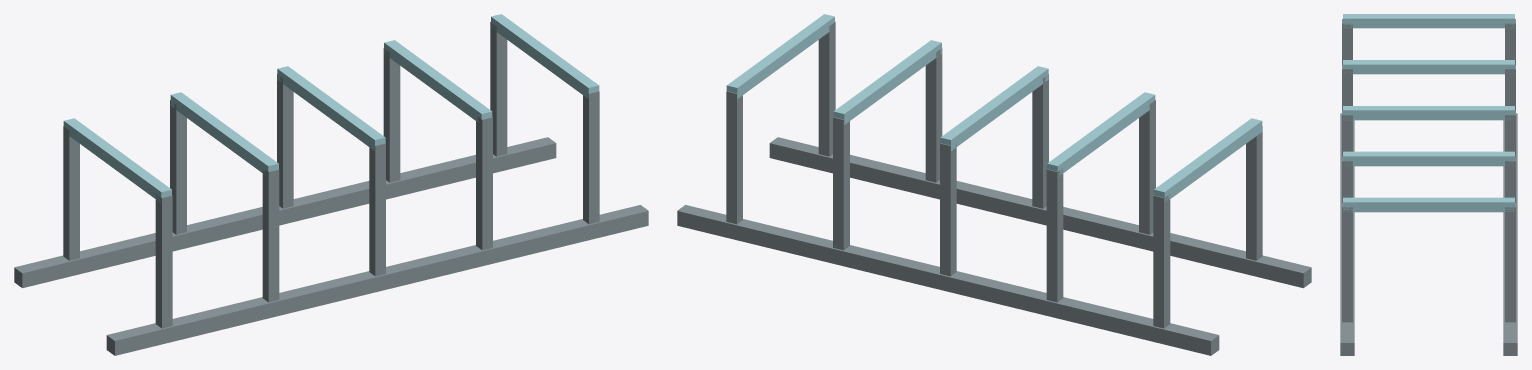
Rendered from bike.glb.
3 renders of one model, left to right at view 1: azimuth 30°, elevation 25°; view 2: azimuth 150°, elevation 25°; view 3: azimuth 270°, elevation 25°, orthographic. The views are drawn at different scales.
Size of the model in its own units: 3 by 0.81 by 0.98.
